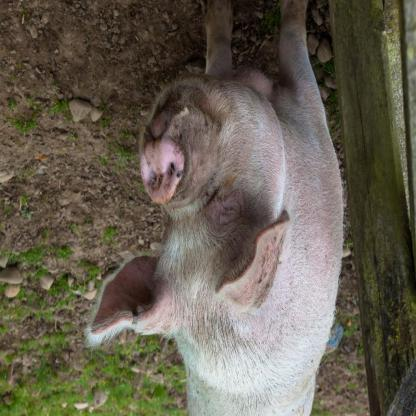boar: (84, 0, 347, 416)
